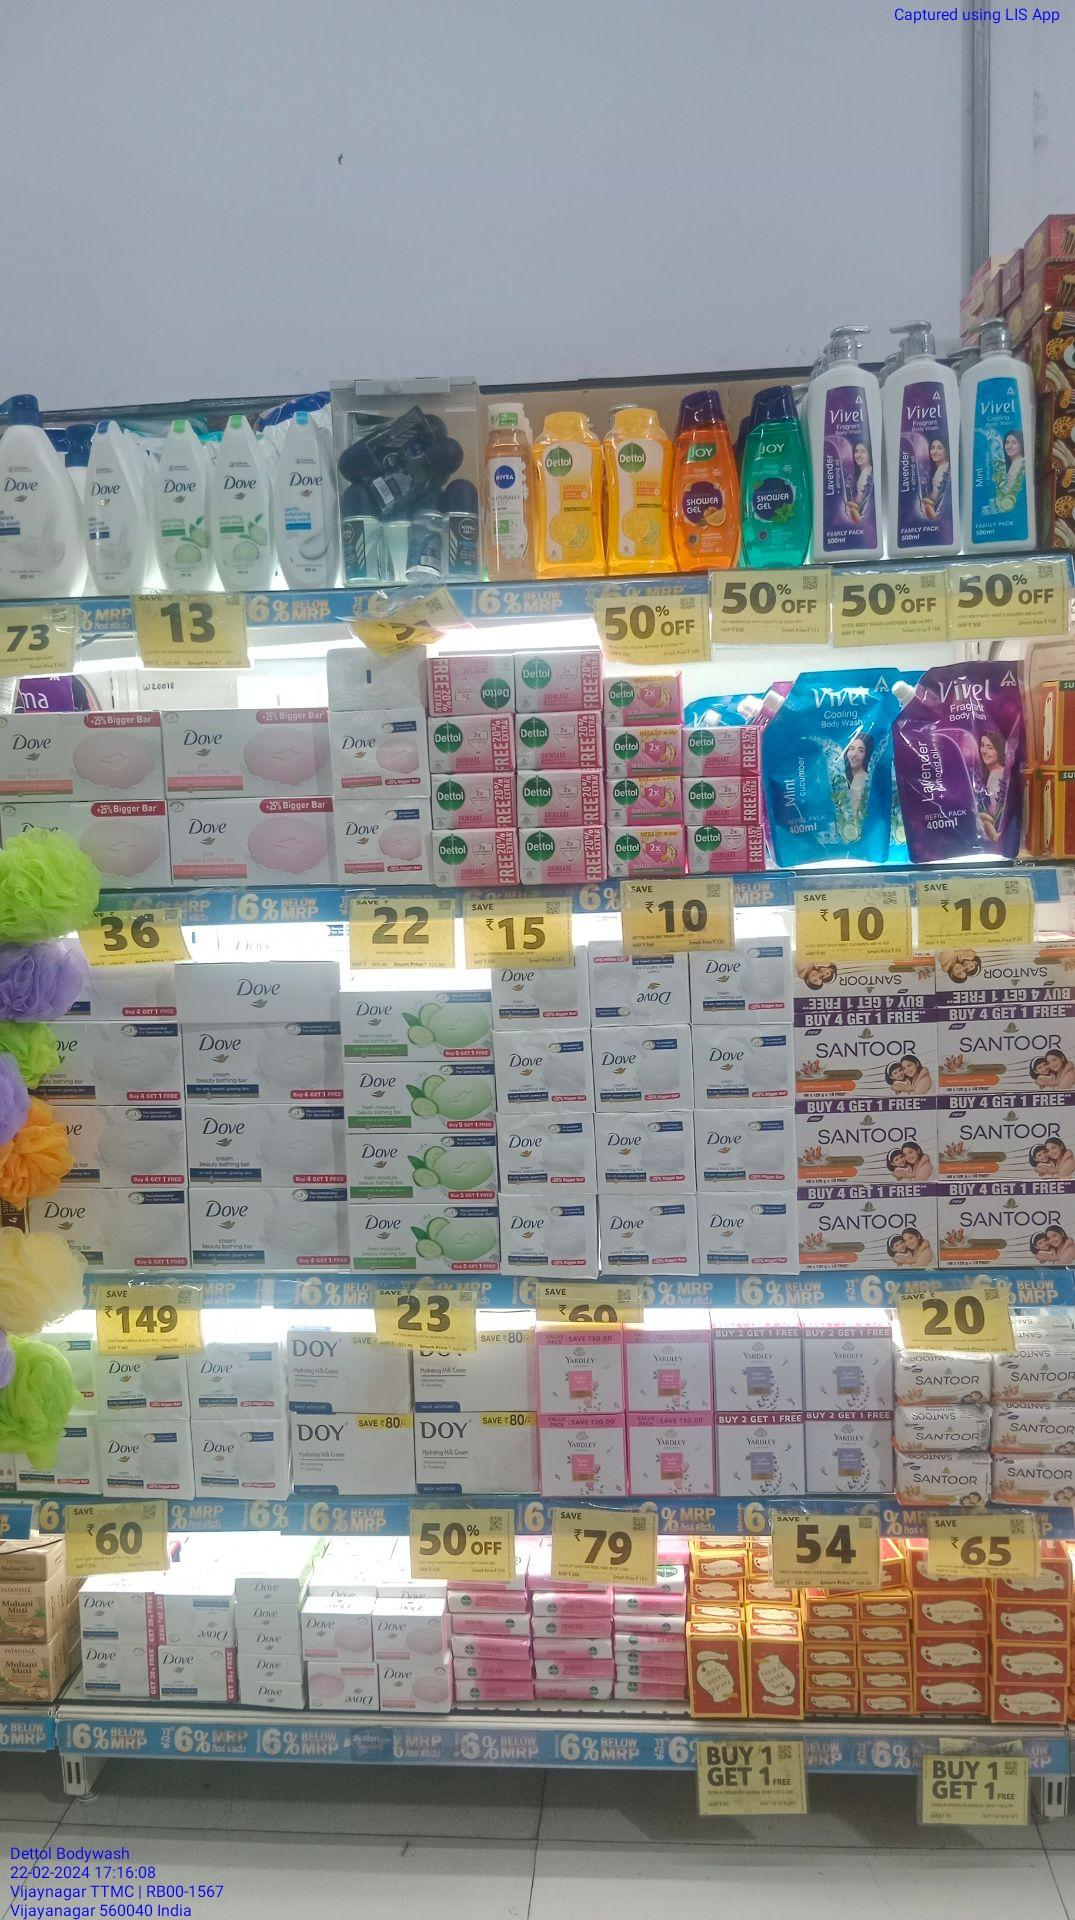Dettol_Bodywash_Refresh: (603, 407, 675, 571), (536, 414, 604, 579)
Dove_Deep_Moisture_Body_Wash_250ML: (87, 415, 142, 595)
Dove_Gentle_Exfoliating_Body_Wash_250ML: (273, 413, 331, 592)
Dove_Refreshing_Body_Wash_250ML: (212, 414, 269, 592), (156, 414, 210, 596)
Joy_Shower_Gel_Mandarin_and_Lemongrass_250ML: (675, 396, 737, 571)
Joy_Shower_Gel_Mint_and_Eucalyptus_250ML: (748, 385, 809, 572)
